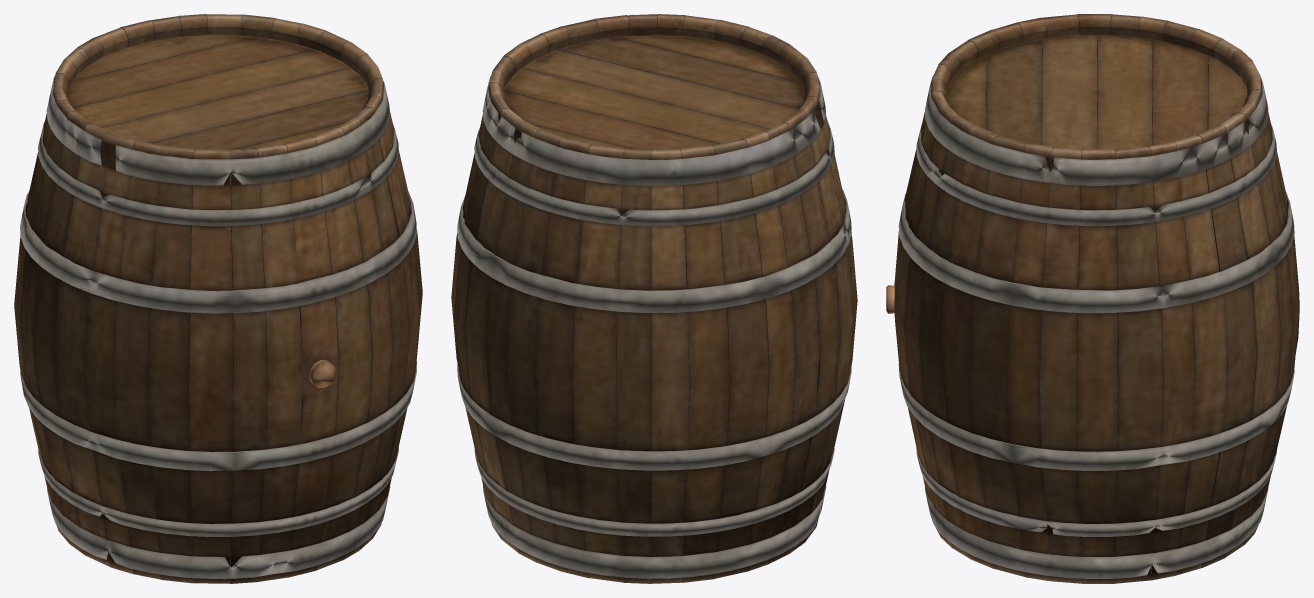
File: wine_barrel_01.glb
3 views of the same model, side by side, from view 1: azimuth 30°, elevation 25°; view 2: azimuth 150°, elevation 25°; view 3: azimuth 270°, elevation 25° (orthographic).
Parts seen in each view (by area): view 1: wine_barrel_01_Lid; view 2: wine_barrel_01_Lid; view 3: wine_barrel_01_Lid.
Boxes of the visible parts, box(x1,y1,x2,y2) form: wine_barrel_01_Lid: box(14, 14, 422, 583); wine_barrel_01_Lid: box(451, 14, 857, 583); wine_barrel_01_Lid: box(886, 14, 1299, 583).
Size of the model in its own units: 0.742 by 0.8696 by 0.7554.
1 material, 1 textured.
